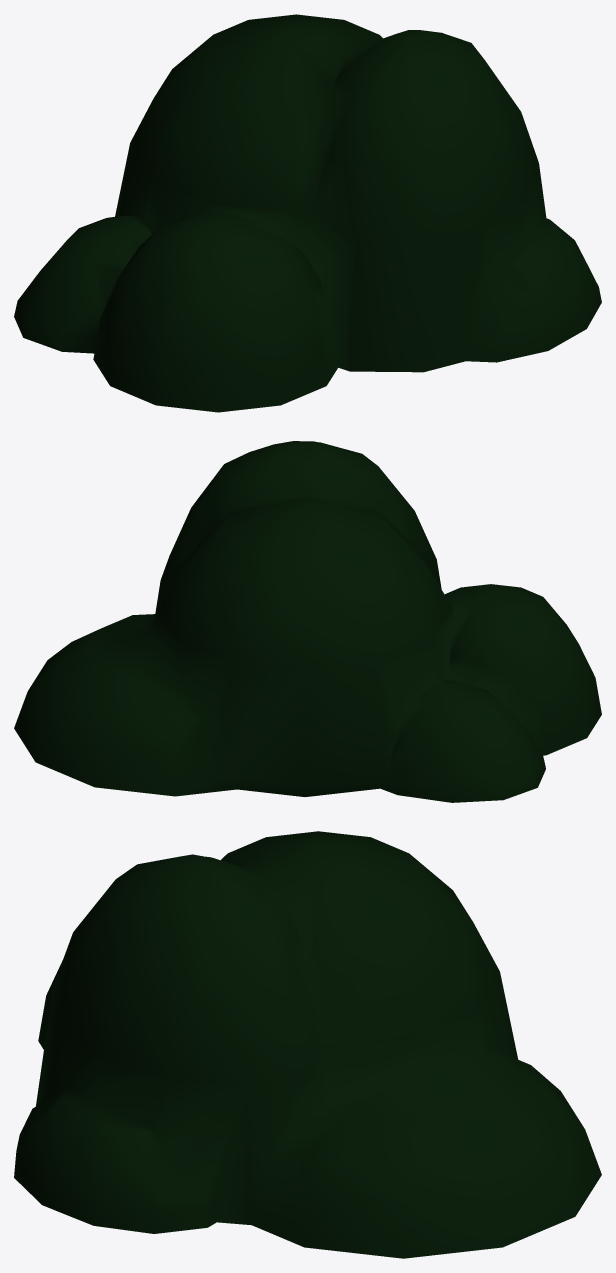
Rendered from Prop_Bush_03.FBX.
The picture shows the model from 3 angles, top to bottom: view 1: azimuth 30°, elevation 25°; view 2: azimuth 150°, elevation 25°; view 3: azimuth 270°, elevation 25°; orthographic projection. The views are drawn at different scales.
Visible parts, largest first — view 1: Prop_Bush_03; view 2: Prop_Bush_03; view 3: Prop_Bush_03.
Part boxes in pixels (<box>): Prop_Bush_03: <box>14,14,601,412</box>; Prop_Bush_03: <box>14,441,601,802</box>; Prop_Bush_03: <box>14,831,601,1258</box>.
Bounding box in the file's own units: 117 × 55.43 × 103.
